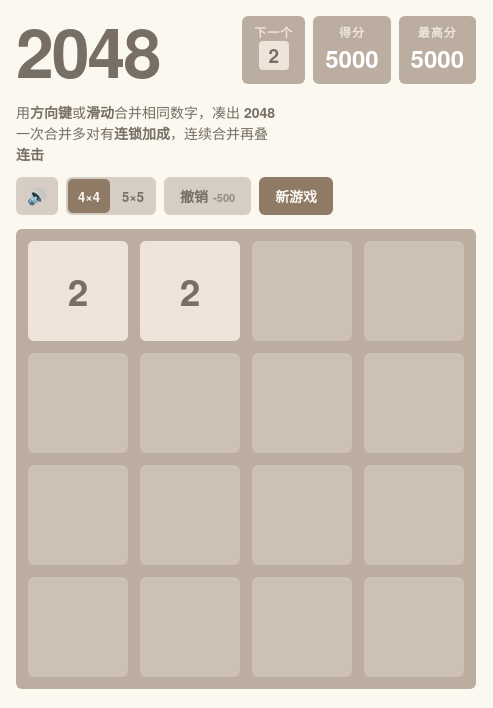
Scenario: App — 棋盘尺寸切换 › 切换后撤销栈是目标尺寸自己的（新局不可撤销）
Expected: the button "撤销-500" is enabled, [164,177,251,215]
Click the button "5×5" at (133, 196), box [112,179,154,213]
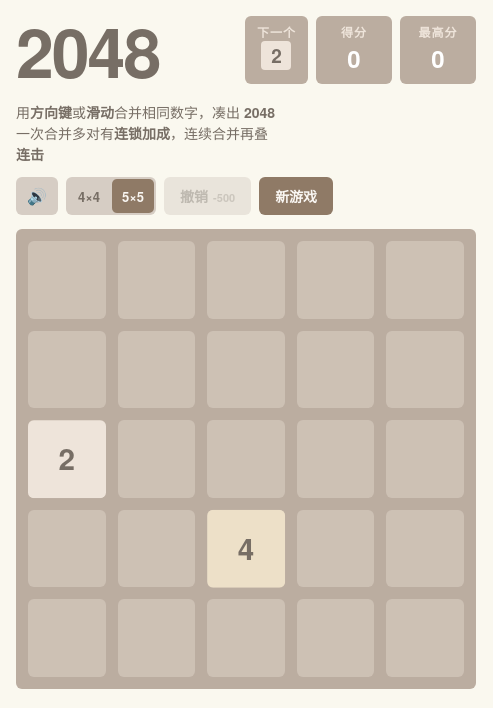
Expected: the button "撤销-500" is disabled, [164,177,251,215]
Click the button "4×4" at (89, 196), box [68,179,110,213]
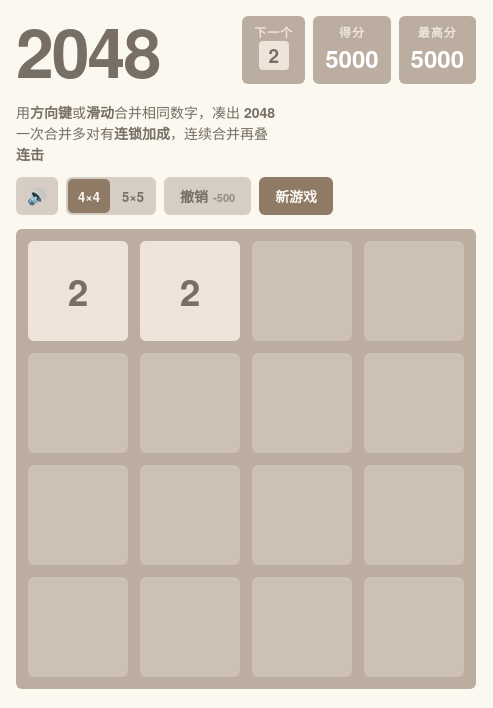
Expected: the button "撤销-500" is enabled, [164,177,251,215]
